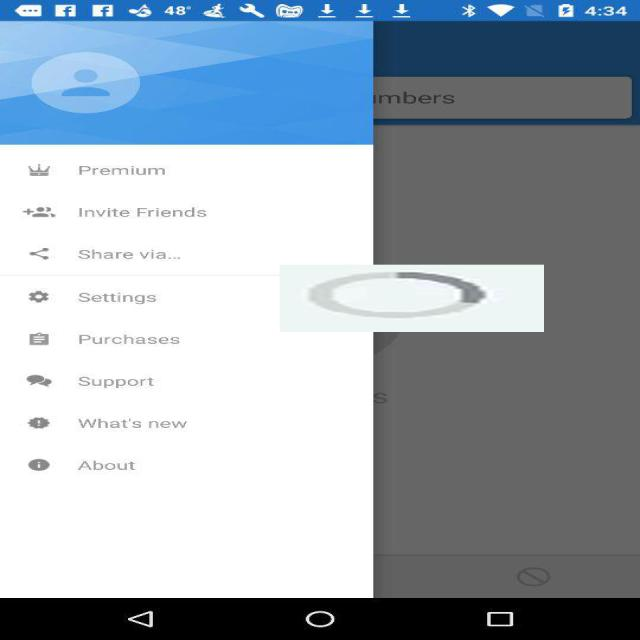misdirection: (280, 265, 544, 332)
